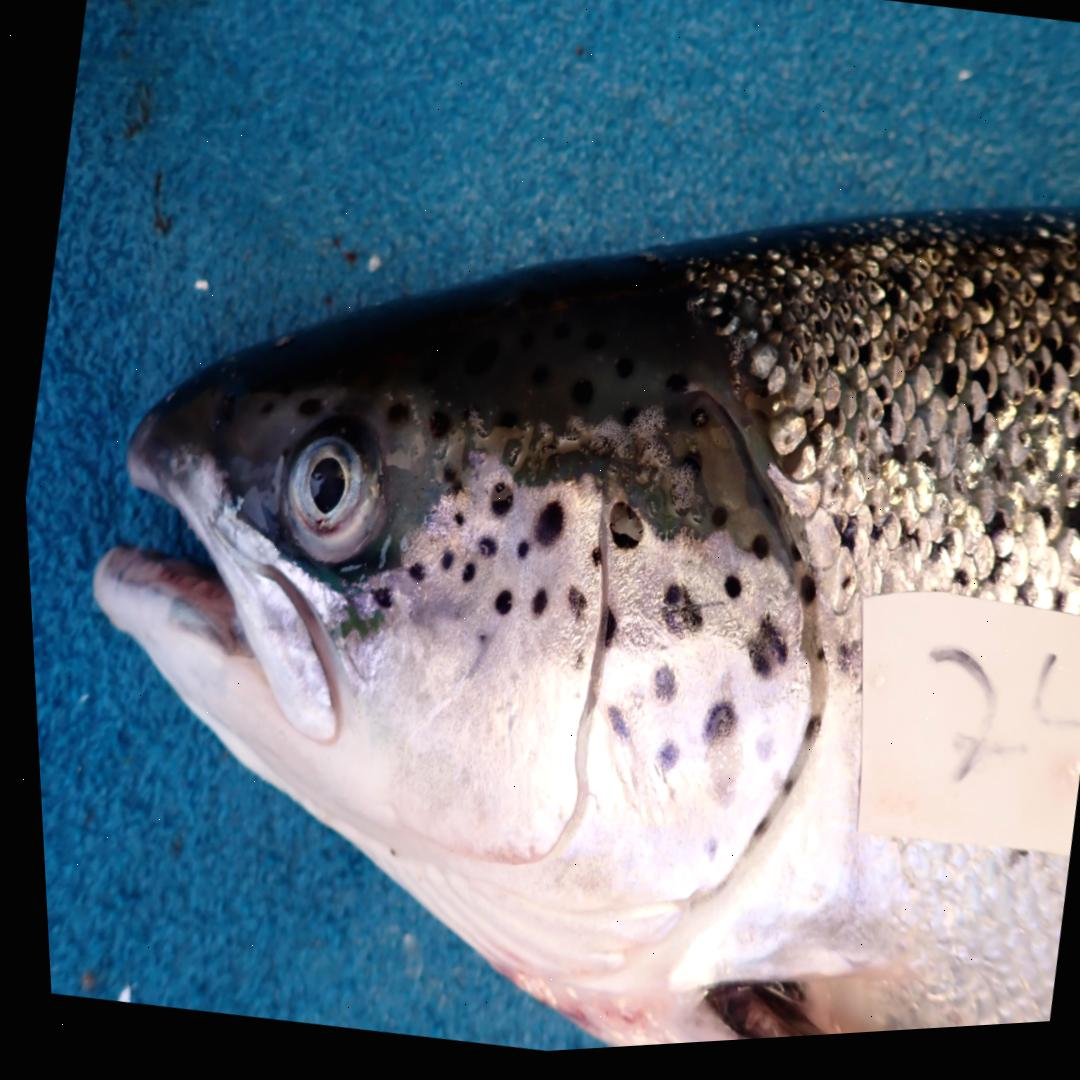spot: (739, 623, 781, 688), (654, 590, 695, 644), (603, 510, 637, 556), (695, 709, 728, 751), (528, 507, 557, 551), (558, 647, 586, 688), (645, 672, 669, 708), (484, 486, 507, 521), (599, 712, 621, 746), (648, 748, 671, 778), (559, 592, 579, 625), (596, 614, 611, 655), (744, 542, 763, 569), (487, 595, 505, 621), (704, 513, 722, 538), (471, 542, 491, 564), (365, 591, 385, 613), (793, 584, 808, 613), (717, 583, 735, 607), (795, 725, 812, 750), (525, 594, 541, 620), (747, 745, 764, 769), (401, 566, 420, 587), (434, 555, 448, 576), (456, 567, 468, 588), (510, 547, 522, 565), (584, 554, 596, 572), (448, 515, 460, 531), (696, 846, 707, 863)
